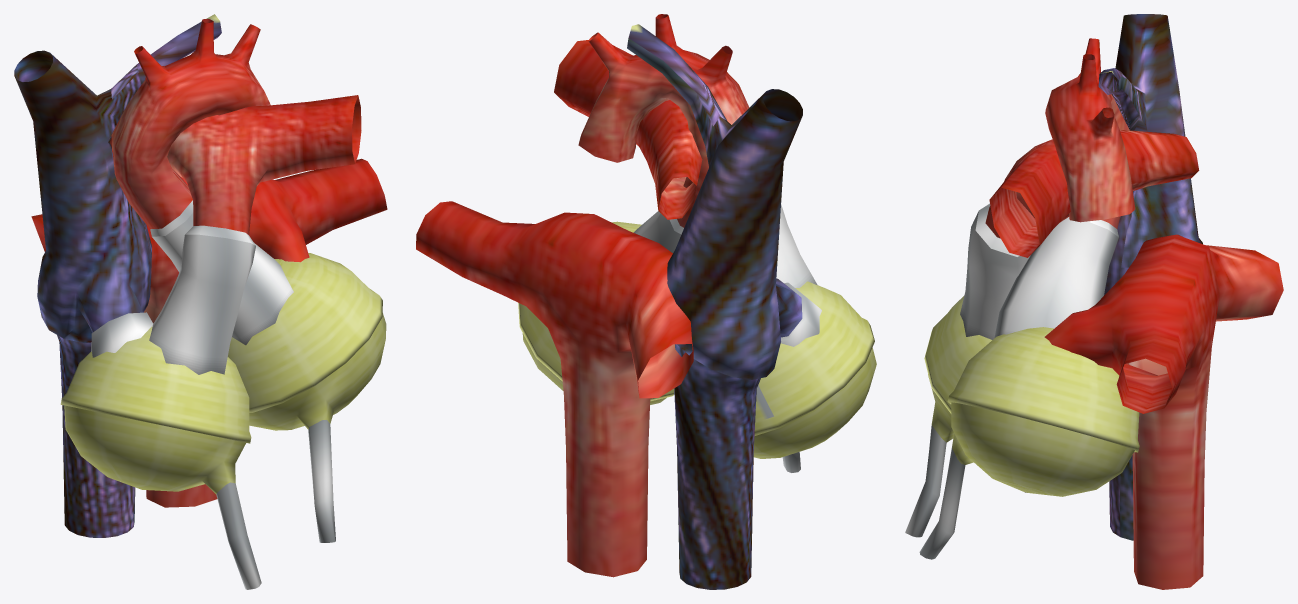
Rendered from bio_heart.dae.
3 views of the same model, side by side, from view 1: azimuth 30°, elevation 25°; view 2: azimuth 150°, elevation 25°; view 3: azimuth 270°, elevation 25° (orthographic). The views are drawn at different scales.
Visible parts, largest first — view 1: polySurface9; view 2: polySurface9; view 3: polySurface9.
Boxes of the visible parts, x1,y1,x2,y2 form: polySurface9: [14, 14, 387, 589]; polySurface9: [416, 14, 876, 589]; polySurface9: [905, 14, 1283, 589].
Size of the model in its own units: 11.23 by 14.78 by 9.94.
Materials: 1 (1 with a texture image).
